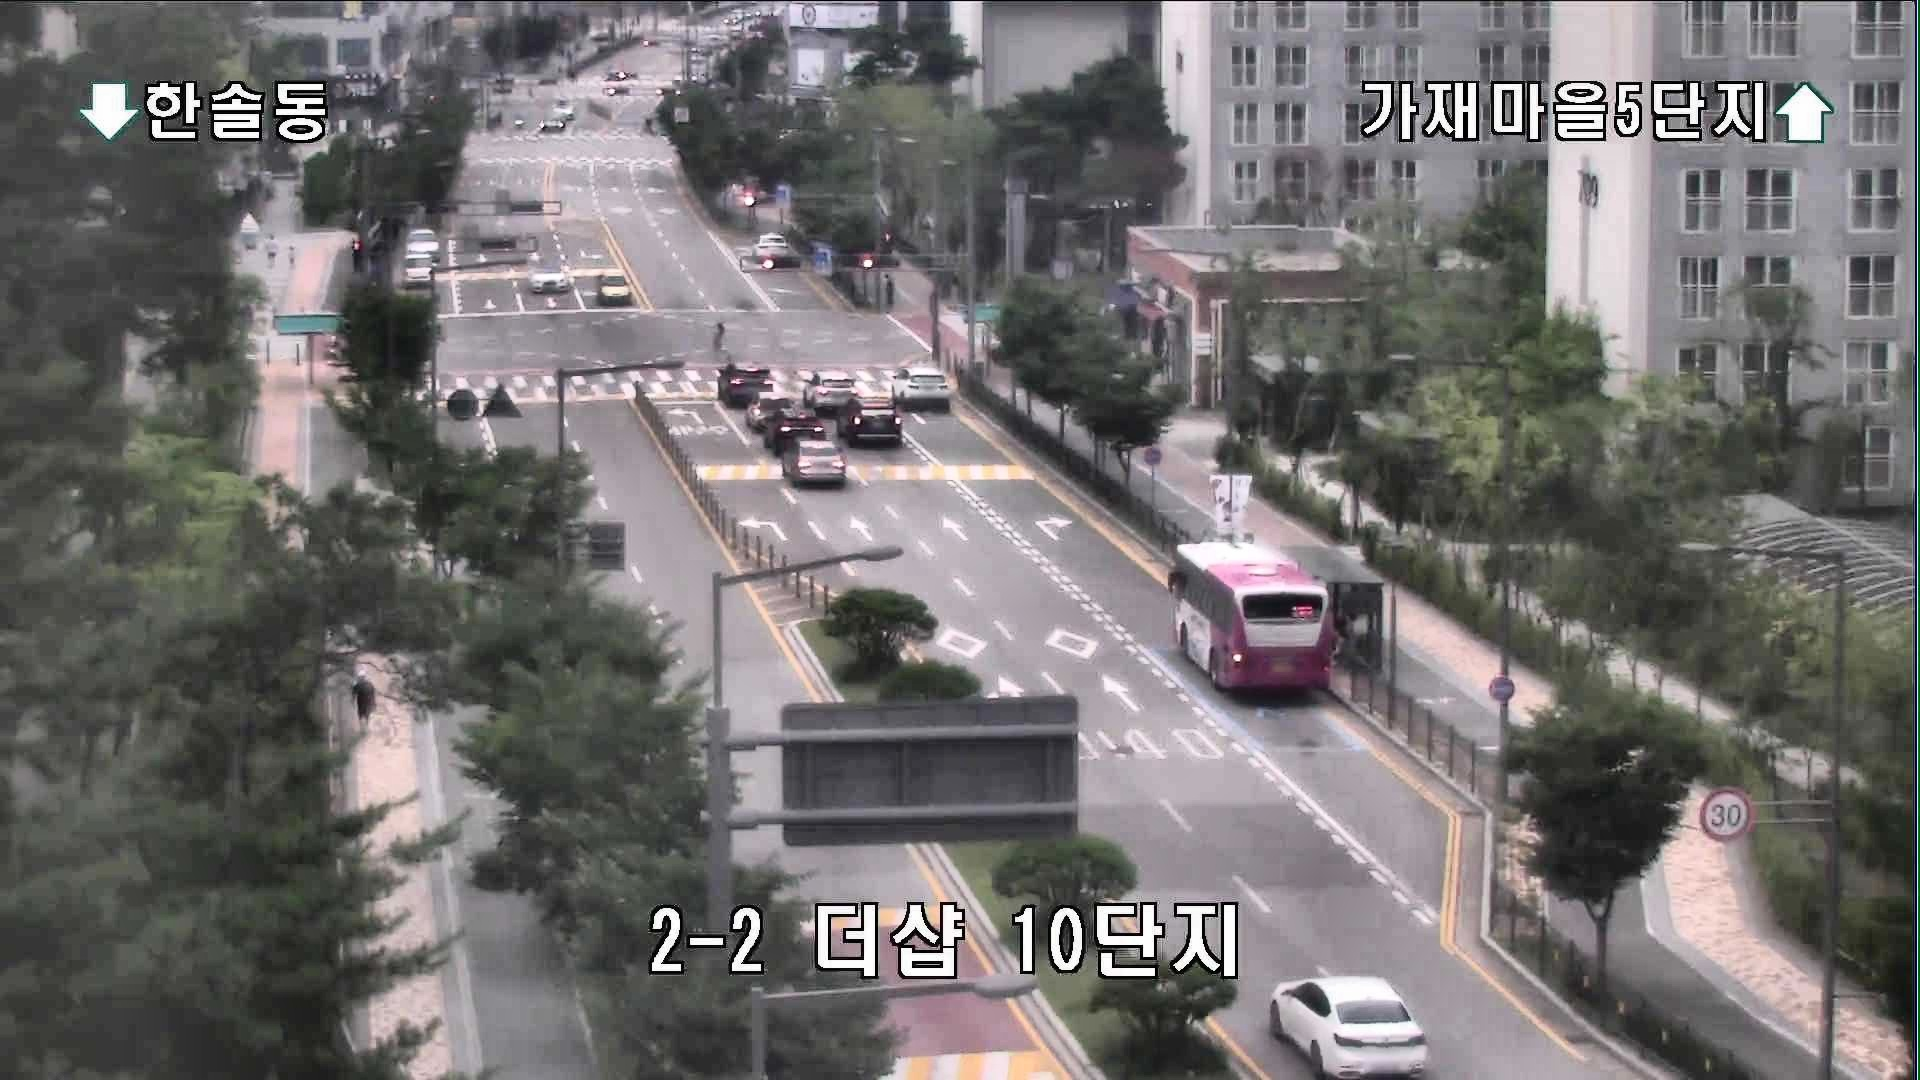crosswalk: (709, 320, 731, 364)
sidewalk: (348, 669, 376, 738), (882, 272, 897, 314)
